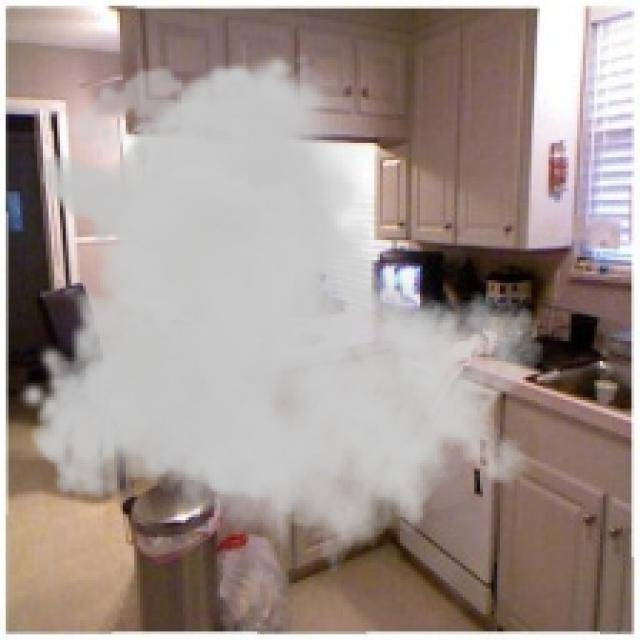Smoke: (17, 51, 546, 592)
